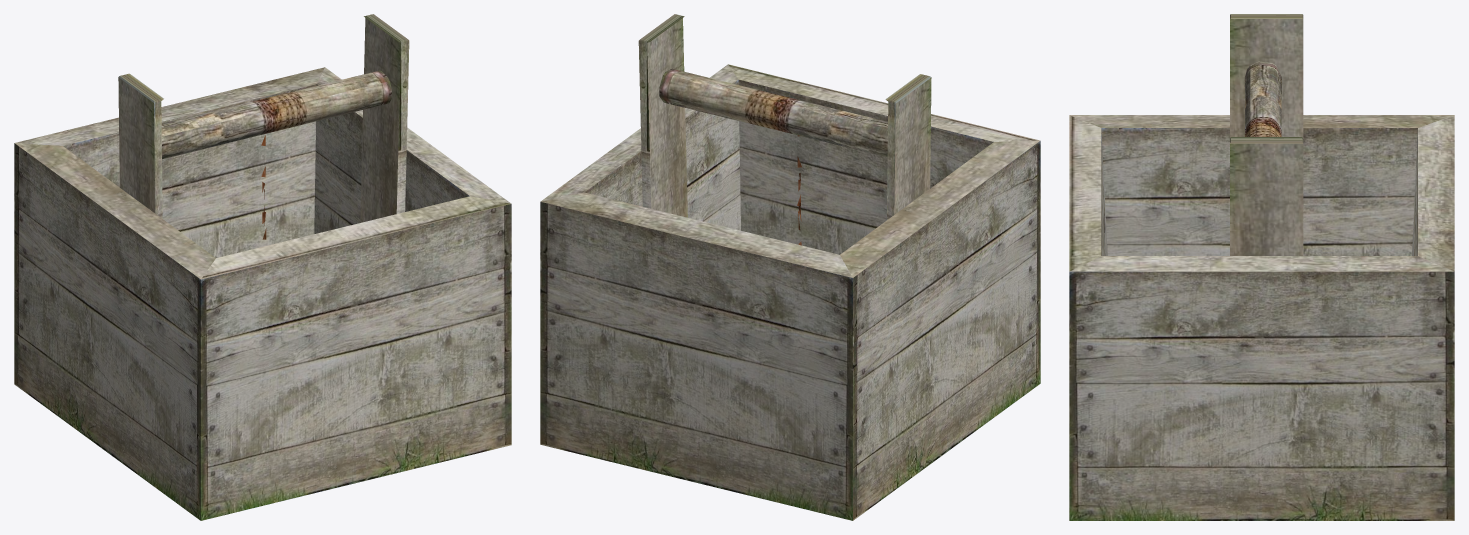
File: well.FBX
The picture shows the model from 3 angles, left to right: view 1: azimuth 30°, elevation 25°; view 2: azimuth 150°, elevation 25°; view 3: azimuth 270°, elevation 25°; orthographic projection. The views are drawn at different scales.
Visible parts, largest first — view 1: water; view 2: water; view 3: water.
Boxes of the visible parts, x1=… form: water: x1=14, y1=14, x2=511, y2=520; water: x1=540, y1=14, x2=1040, y2=520; water: x1=1069, y1=14, x2=1454, y2=520.
Size of the model in its own units: 1.49 by 1.63 by 1.55.
2 materials, 2 textured.
